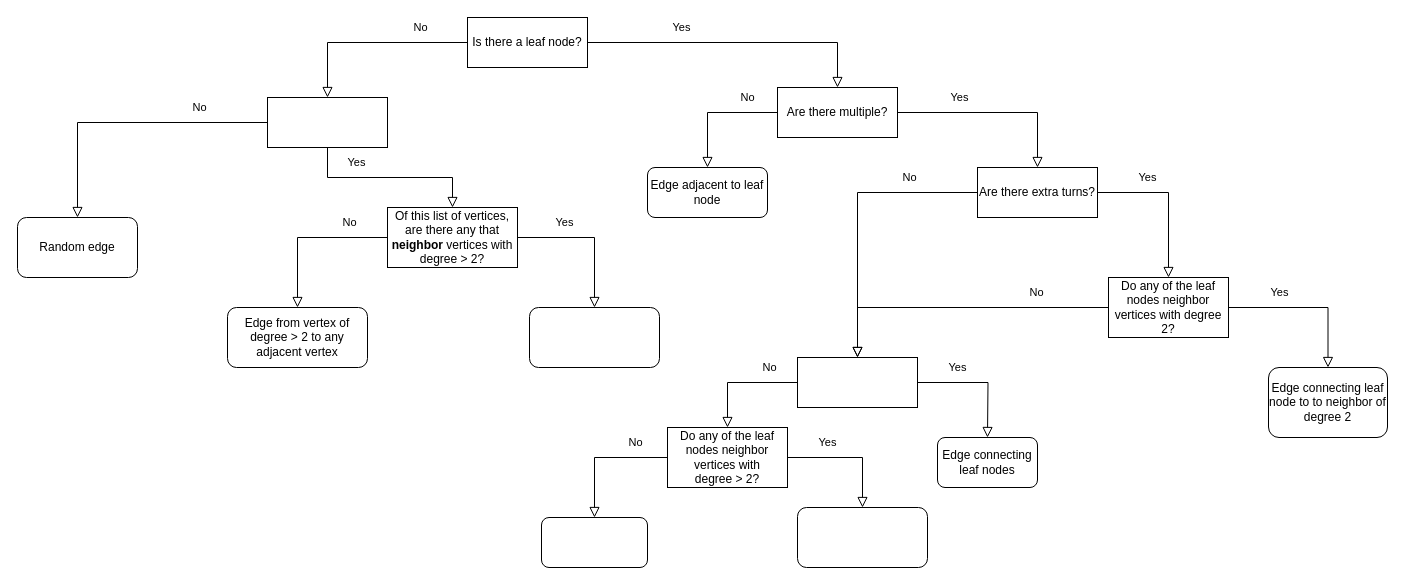
Image size: 1405x585. Some labels were removed from this diagram. Each missing label, with the centre of its shape:
Do any of the leaf nodes neighbor other leaves?: pixel 857 382
Edge adjacent to any leaf node: pixel 594 542
Edge connecting leaf to neighbor of degree > 2: pixel 862 537
Edge connecting vertex of degree > 2 to neighbor of degree > 2: pixel 594 337
Is there anything with degree > 2?: pixel 327 122
